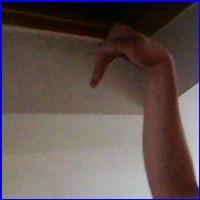A: (89, 19, 171, 96)
